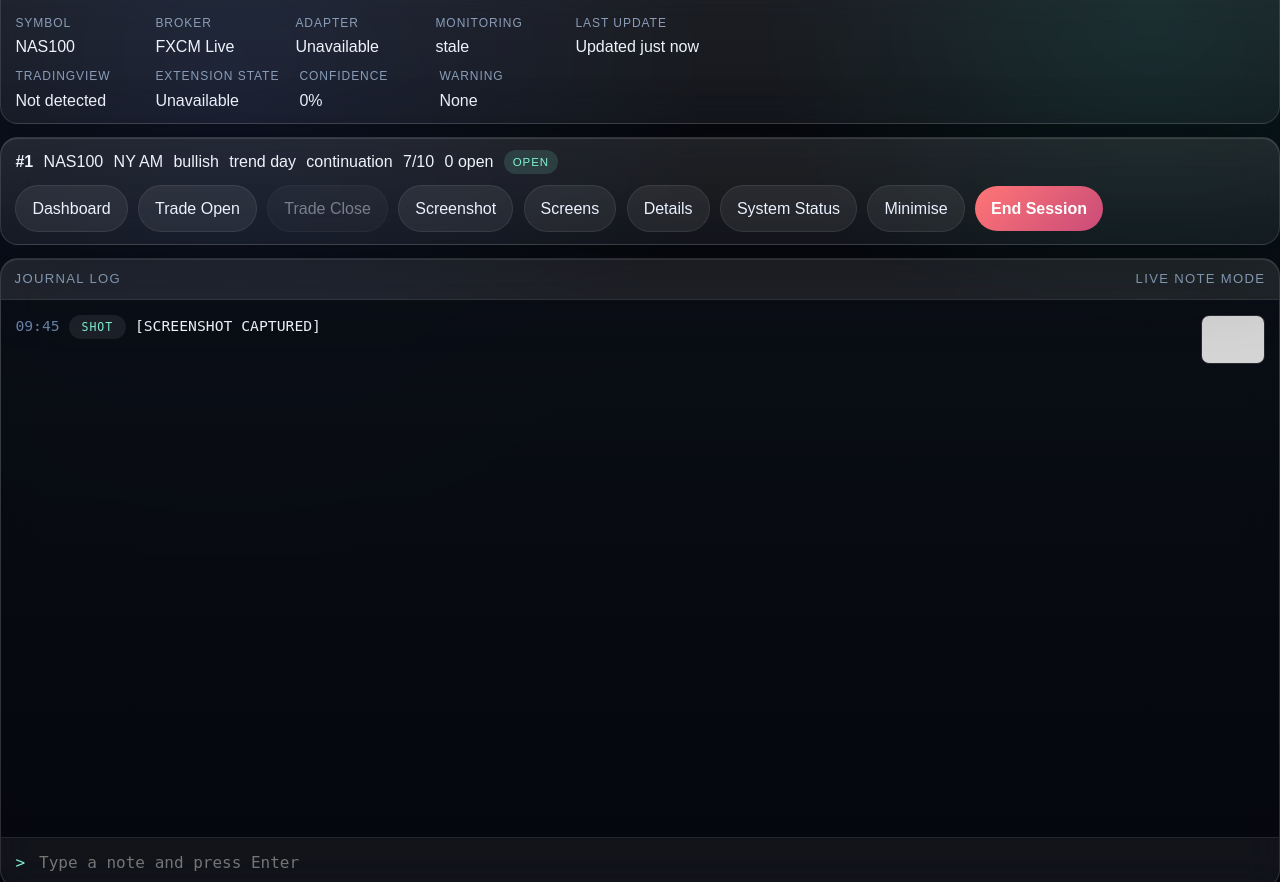
Scenario: JournalPage close-trade recovery › resyncs authoritative state after end-session fails because the session closed elsewhere
(page scrolled)
Click the button "End Session".
click(1039, 208)  # box [975,186,1103,231]
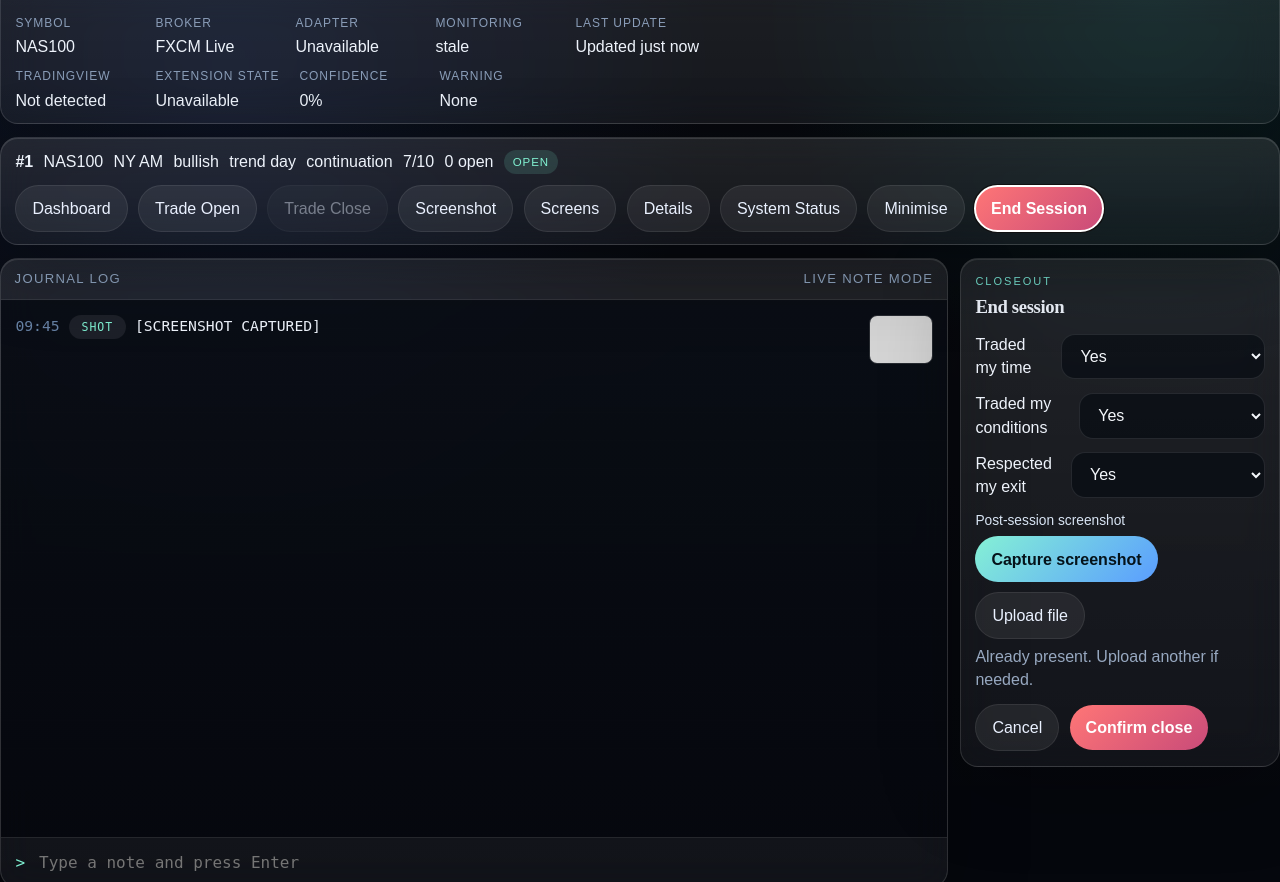
Click the button "Confirm close".
click(1139, 728)  # box [1070,705,1208,750]
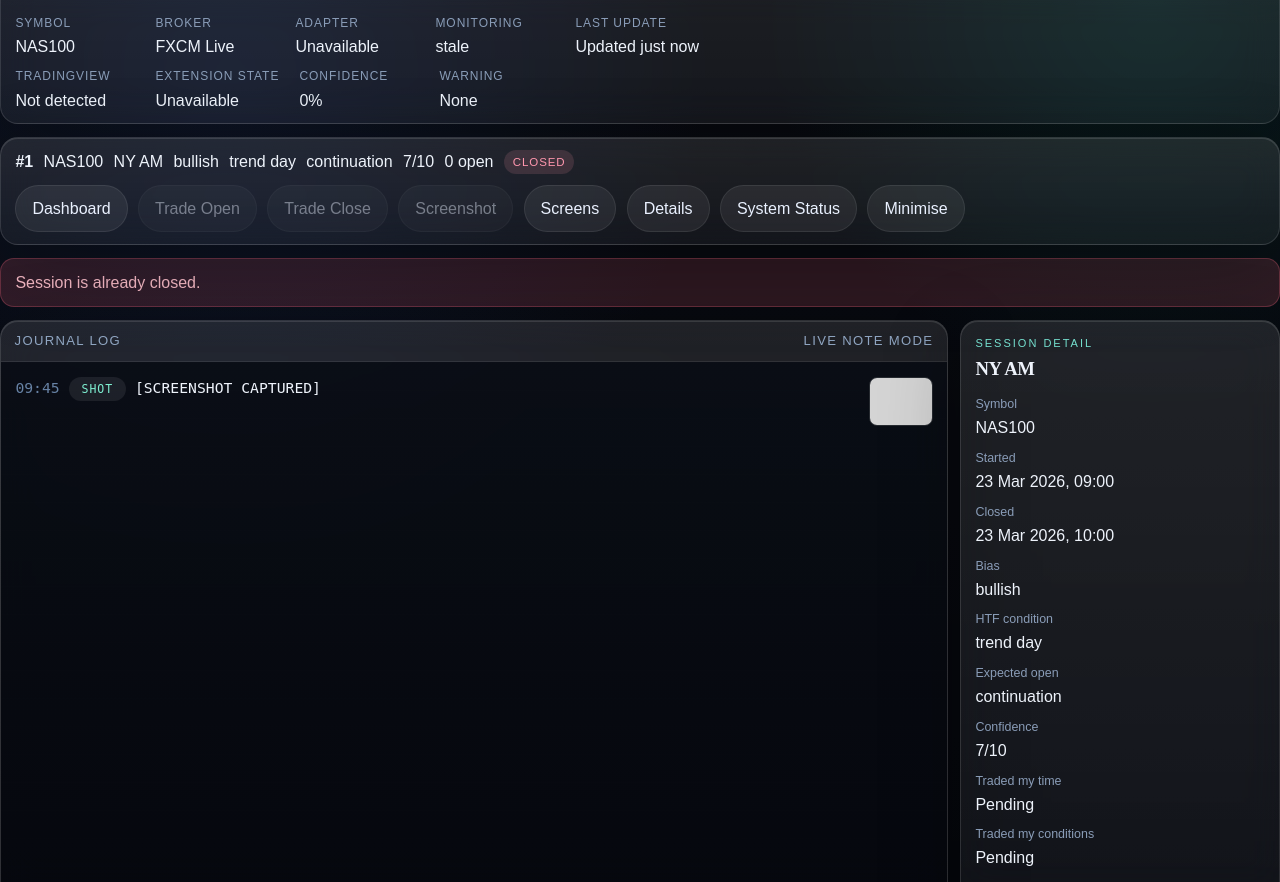
Check: the text "Session is already closed." is shown, box [0,258,1279,307]
Check: the text "closed" is shown, box [504,150,574,174]
Check: the text "Session detail" is shown, box [975,335,1093,351]
